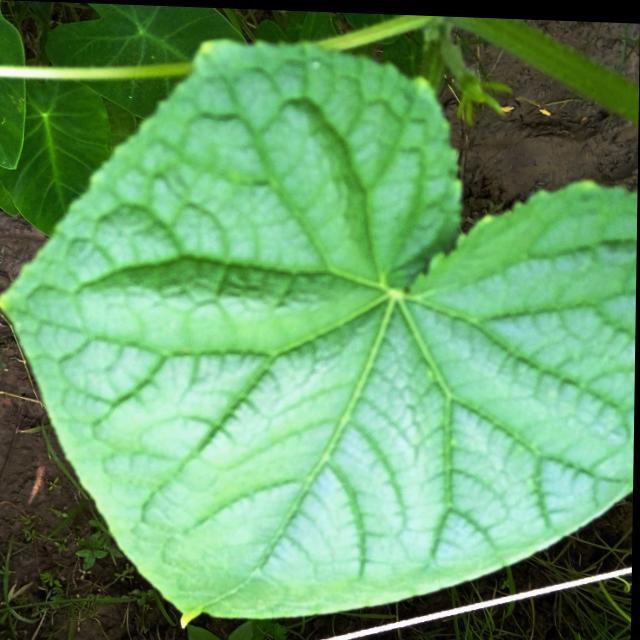Fresh-Leaf: (0, 40, 637, 632)
